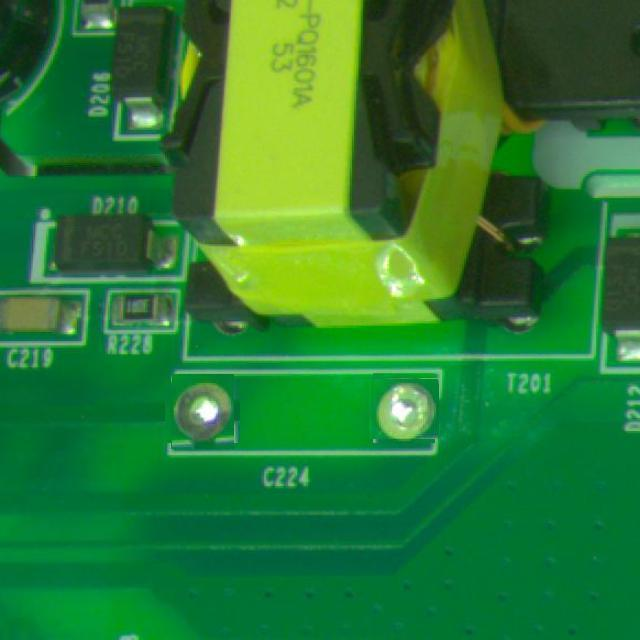lack_of_part: (168, 377, 237, 446), (372, 376, 438, 442)
